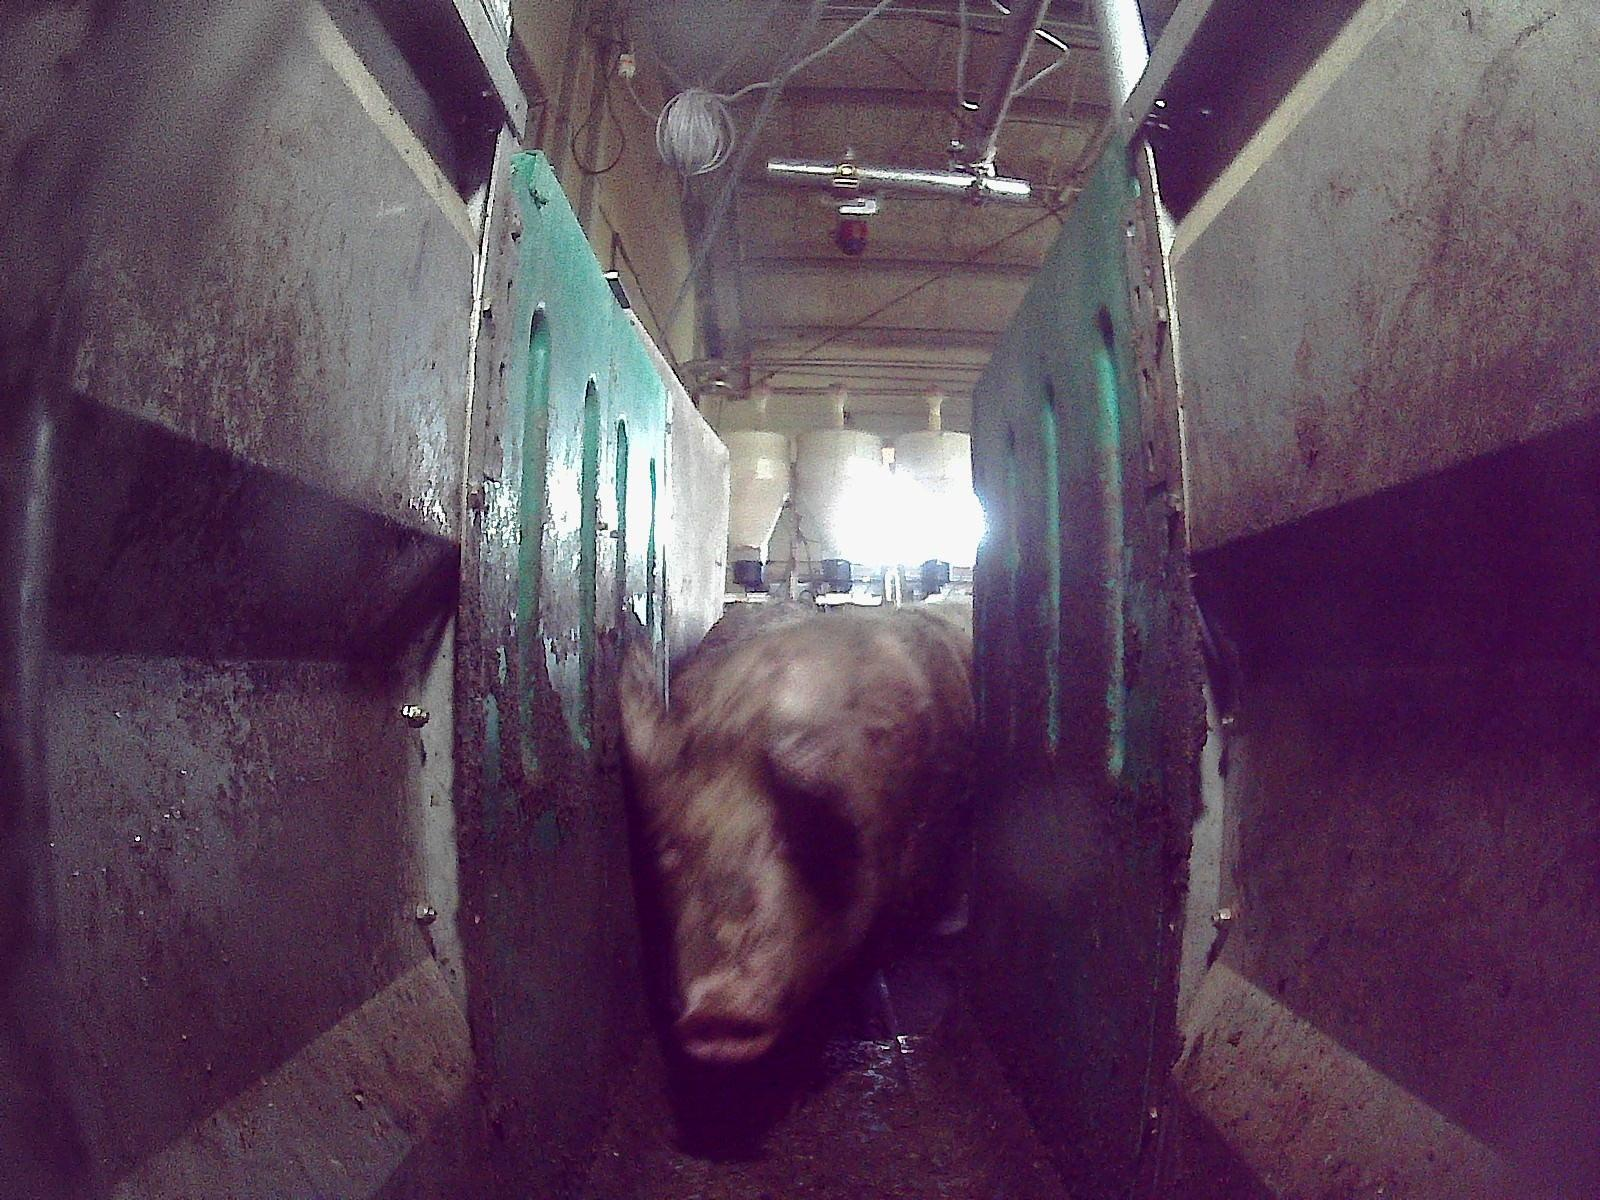Face: (621, 719, 878, 1065)
